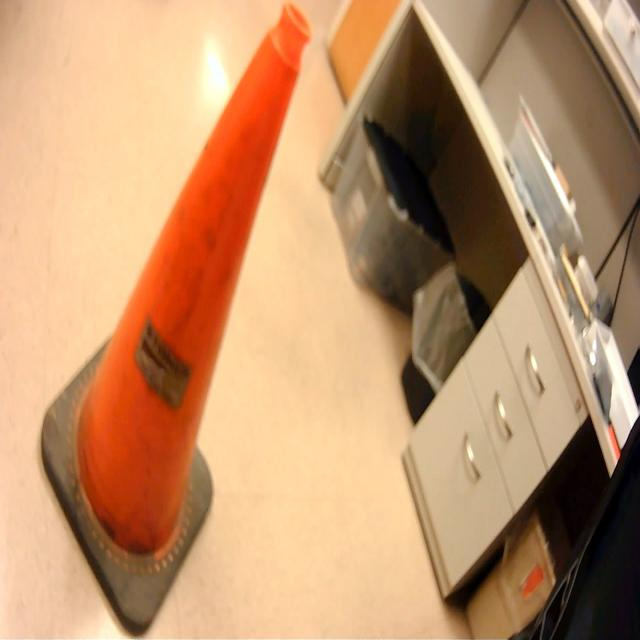traffic cone: (38, 1, 317, 640)
